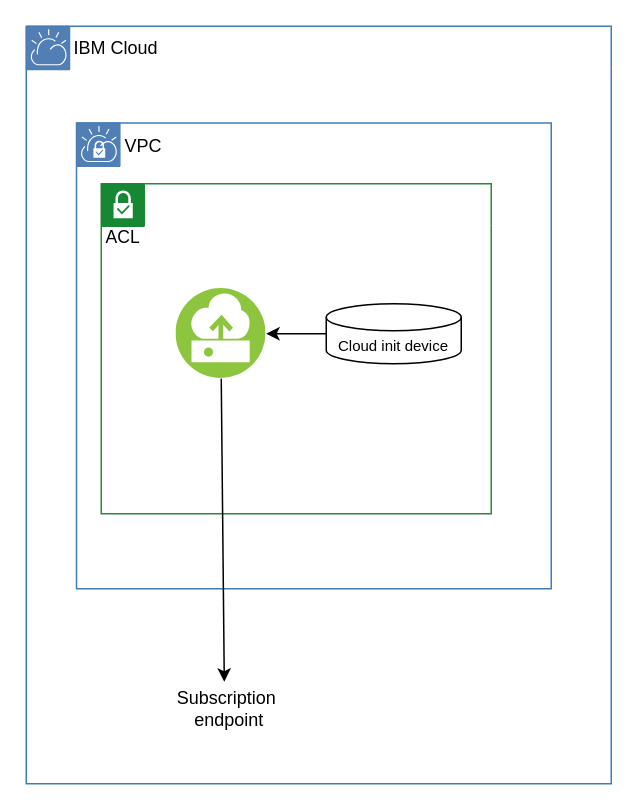
Some shapes in this 638 by 810 pixel diagram are drawn without their labels. Here are the shapes that lost their labels. From the top down, the box of each, then its label:
(176, 288, 266, 378): VSI
(100, 182, 491, 514): Subnet
